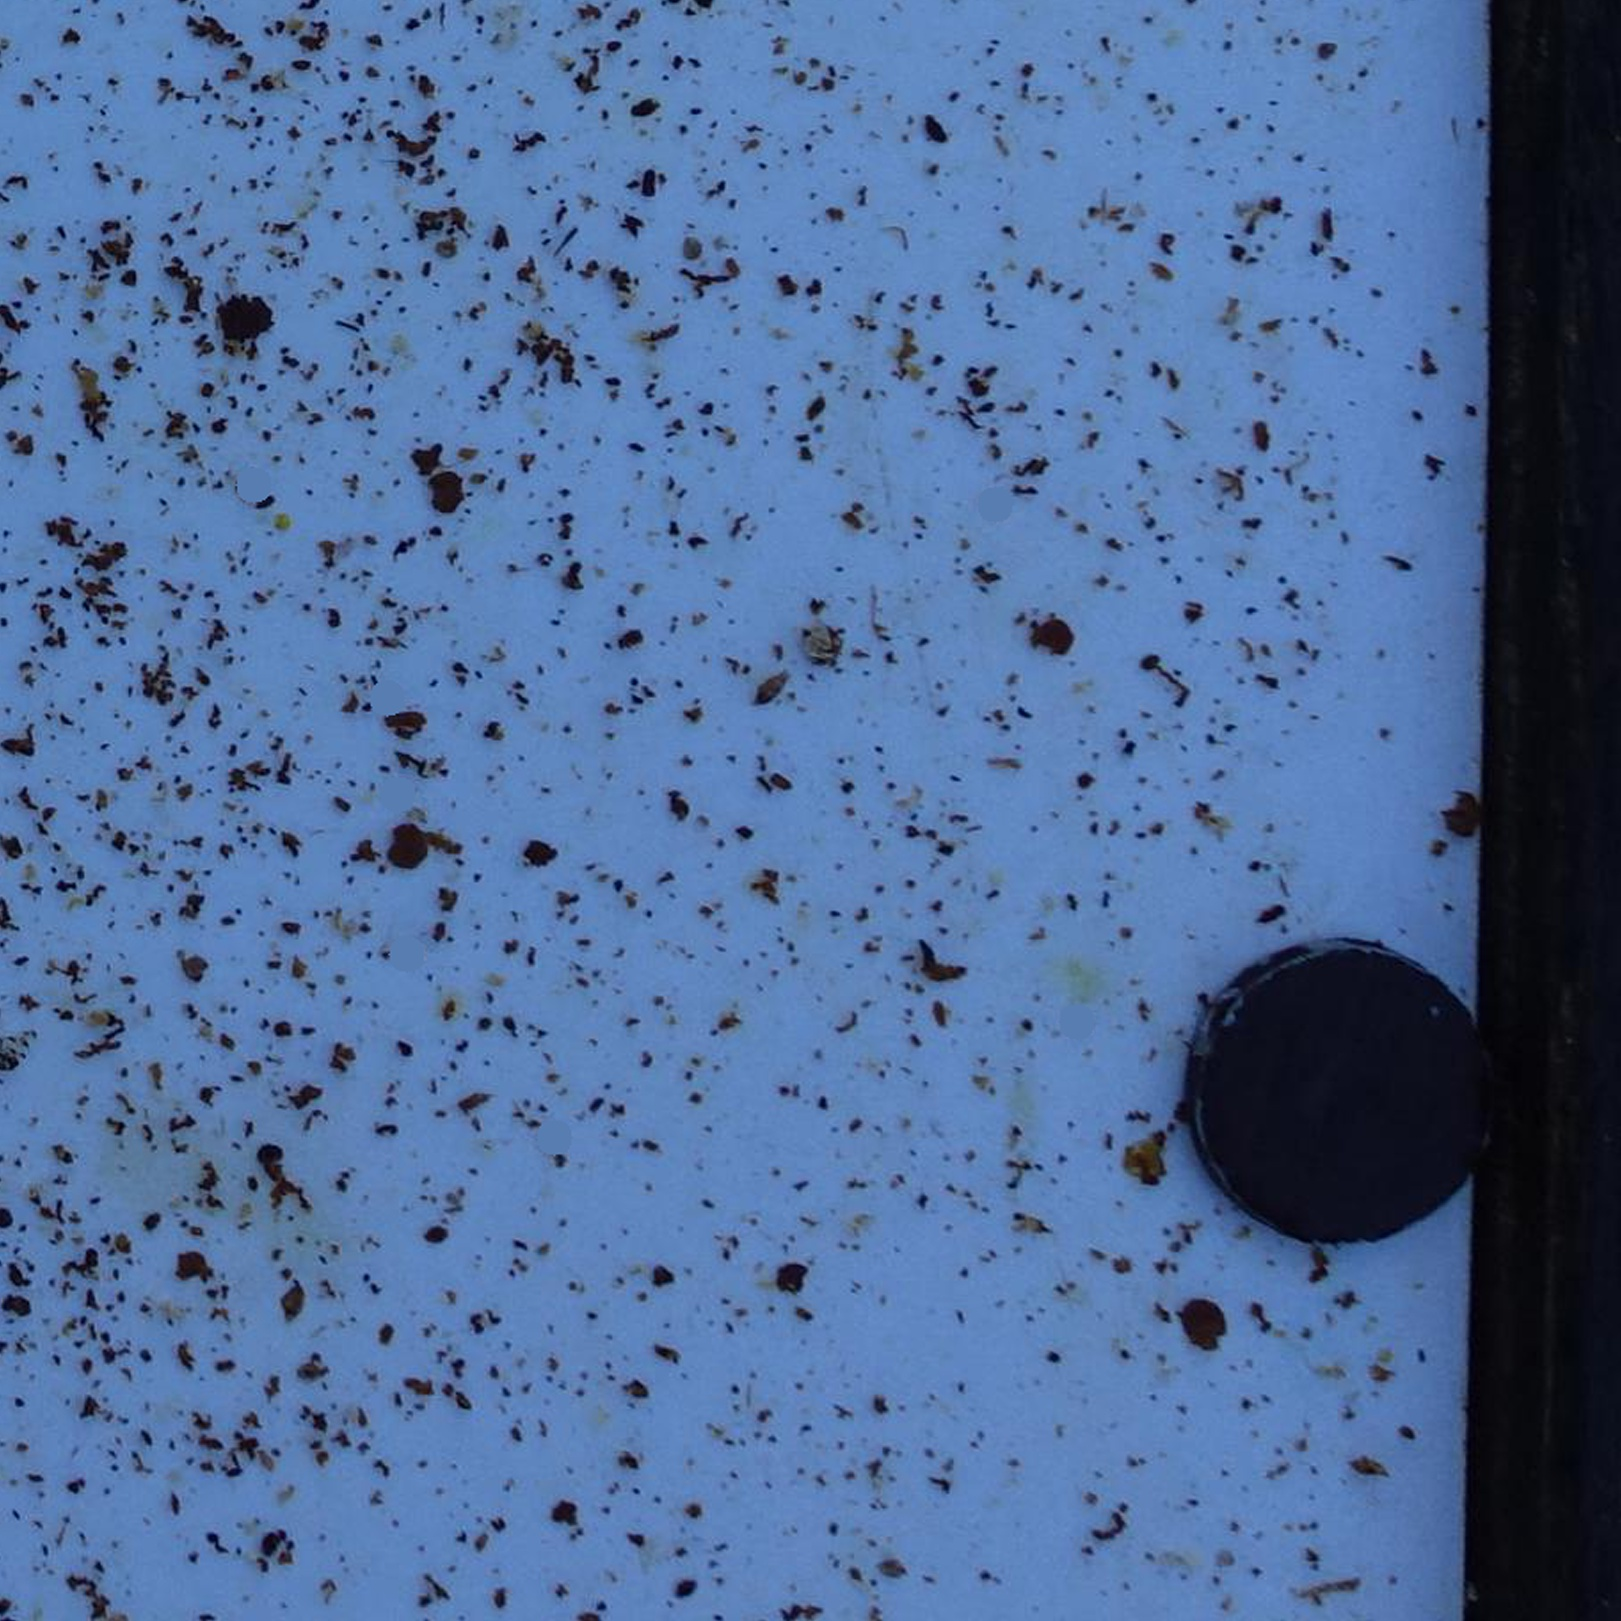Varroa: (254, 1144, 284, 1176)
